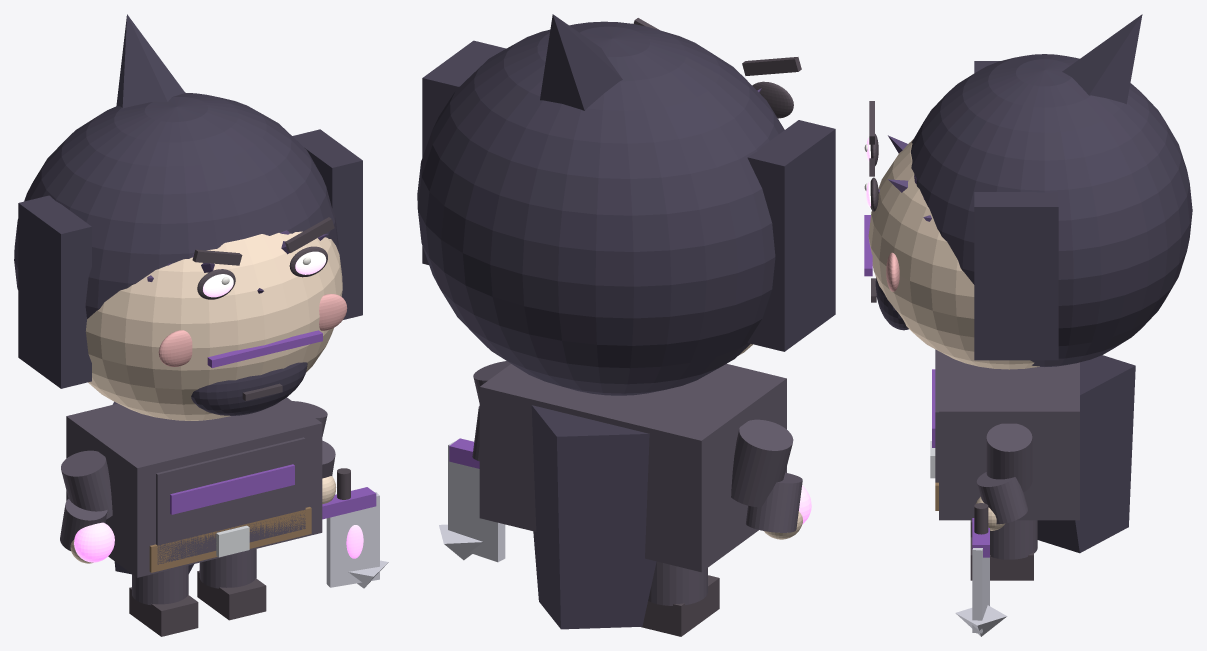
File: shade.glb
3 renders of one model, left to right at view 1: azimuth 30°, elevation 25°; view 2: azimuth 150°, elevation 25°; view 3: azimuth 270°, elevation 25°, orthographic. The views are drawn at different scales.
Parts seen in each view (by area): view 1: Hood, Head, Coat, HoodSide_L, CoatFront, HoodSide_R, HoodTip, DaggerBlade, Mask, Belt, ChestStrap, UpperArm_L (+14 smaller); view 2: Hood, Coat, Cape, HoodSide_L, HoodTip, UpperArm_L, DaggerBlade, HoodSide_R, Forearm_L, Shoe_L, Leg_L, Brow_L (+3 smaller); view 3: Hood, Coat, HoodSide_R, Head, Cape, HoodTip, UpperArm_R, Forearm_R, Leg_R, DaggerBlade, Shoe_R, DaggerTip (+2 smaller).
Part boxes in pixels (x1,y1,x2,y2): Hood: (14,92,338,318); Head: (85,231,342,420); Coat: (66,397,322,577); HoodSide_L: (18,195,91,388); CoatFront: (156,437,305,564); HoodSide_R: (292,129,362,319); HoodTip: (116,14,185,108); DaggerBlade: (326,492,379,587); Mask: (191,362,307,415); Belt: (149,507,311,572); ChestStrap: (170,464,294,514); UpperArm_L: (61,450,112,519); Hood: (417,21,784,395); Coat: (479,363,786,572); Cape: (531,405,656,629); HoodSide_L: (747,120,835,351); HoodTip: (540,14,622,110); UpperArm_L: (731,419,793,507); DaggerBlade: (448,441,505,562); HoodSide_R: (422,40,505,264); Forearm_L: (746,472,802,532); Shoe_L: (641,575,719,636); Leg_L: (648,561,707,605); Brow_L: (742,57,801,75); Hood: (911,54,1192,366); Coat: (939,351,1079,520); HoodSide_R: (974,192,1058,360); Head: (868,139,1039,369); Cape: (1037,355,1135,553); HoodTip: (1062,14,1142,104); UpperArm_R: (986,423,1032,492); Forearm_R: (976,472,1027,524); Leg_R: (990,520,1037,559); DaggerBlade: (972,548,989,633); Shoe_R: (970,537,1033,580); DaggerTip: (955,605,1006,636).
Bounding box in the file's own units: 1.19 × 1.91 × 1.04.
